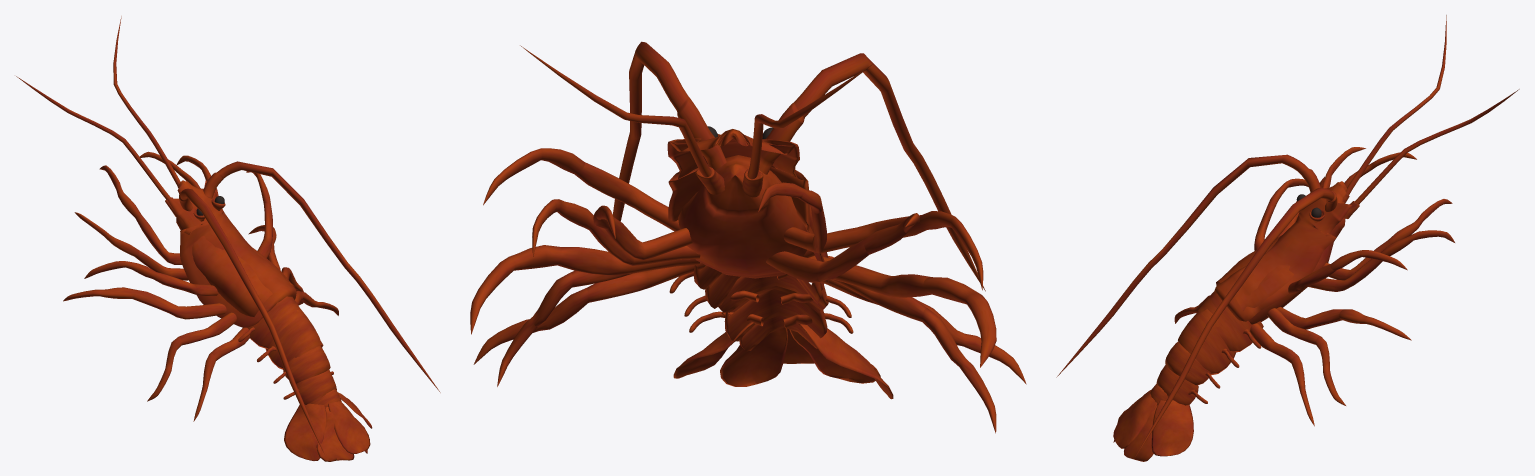
The model's file is prawntemplate.dae.
3 renders of one model, left to right at view 1: azimuth 30°, elevation 25°; view 2: azimuth 150°, elevation 25°; view 3: azimuth 270°, elevation 25°, orthographic. The views are drawn at different scales.
Visible parts, largest first — view 1: 自由曲面 (×20); view 2: 自由曲面 (×27); view 3: 自由曲面 (×20).
Boxes of the visible parts, <box> form: 自由曲面 (×20): <box>16,16,440,461</box>; 自由曲面 (×27): <box>470,41,1026,433</box>; 自由曲面 (×20): <box>1056,15,1519,461</box>.
Size of the model in its own units: 24.13 by 25.86 by 32.22.
9 materials, 7 textured.
